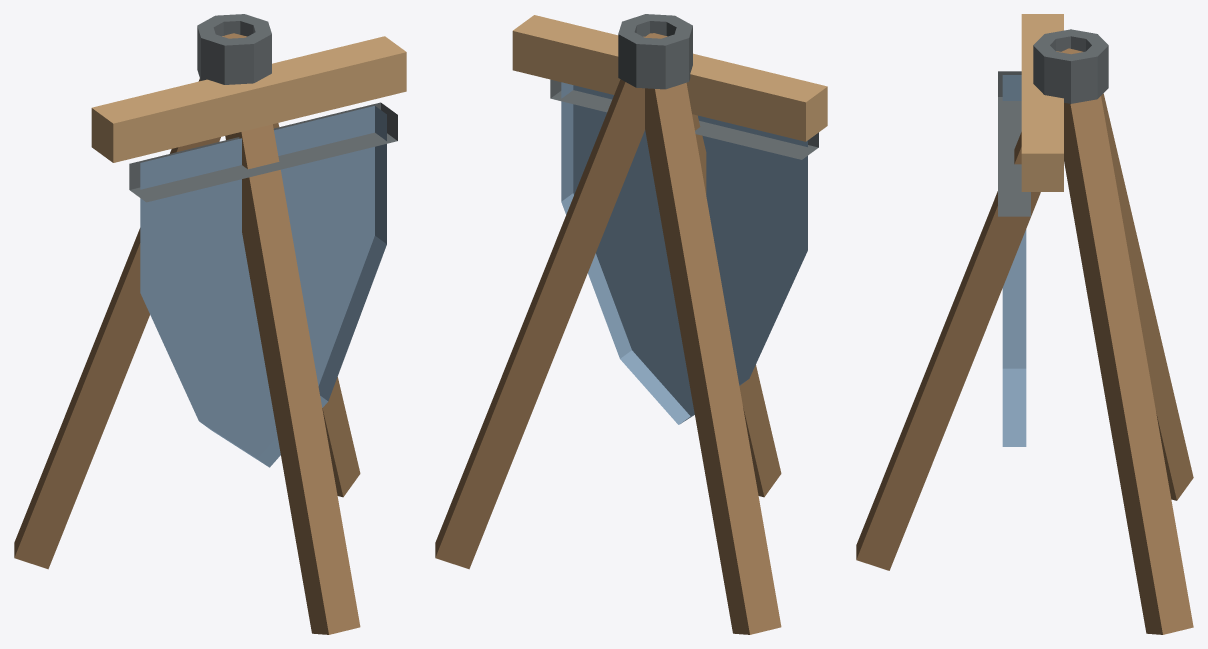
Rendered from shield-on-stand.glb.
3 renders of one model, left to right at view 1: azimuth 30°, elevation 25°; view 2: azimuth 150°, elevation 25°; view 3: azimuth 270°, elevation 25°, orthographic. The views are drawn at different scales.
Parts seen in each view (by area): view 1: shield-on-stand; view 2: shield-on-stand; view 3: shield-on-stand.
Part boxes in pixels (left/top/right/bottom): shield-on-stand: left=14, top=14, right=406, bottom=634; shield-on-stand: left=435, top=14, right=827, bottom=634; shield-on-stand: left=856, top=14, right=1193, bottom=634.
Bounding box in the file's own units: 0.826 × 1.21 × 0.7154.
